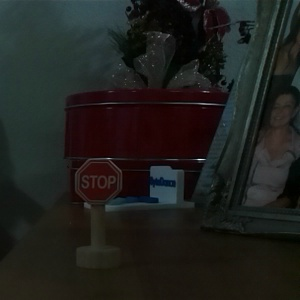stop sign: (72, 155, 124, 268)
